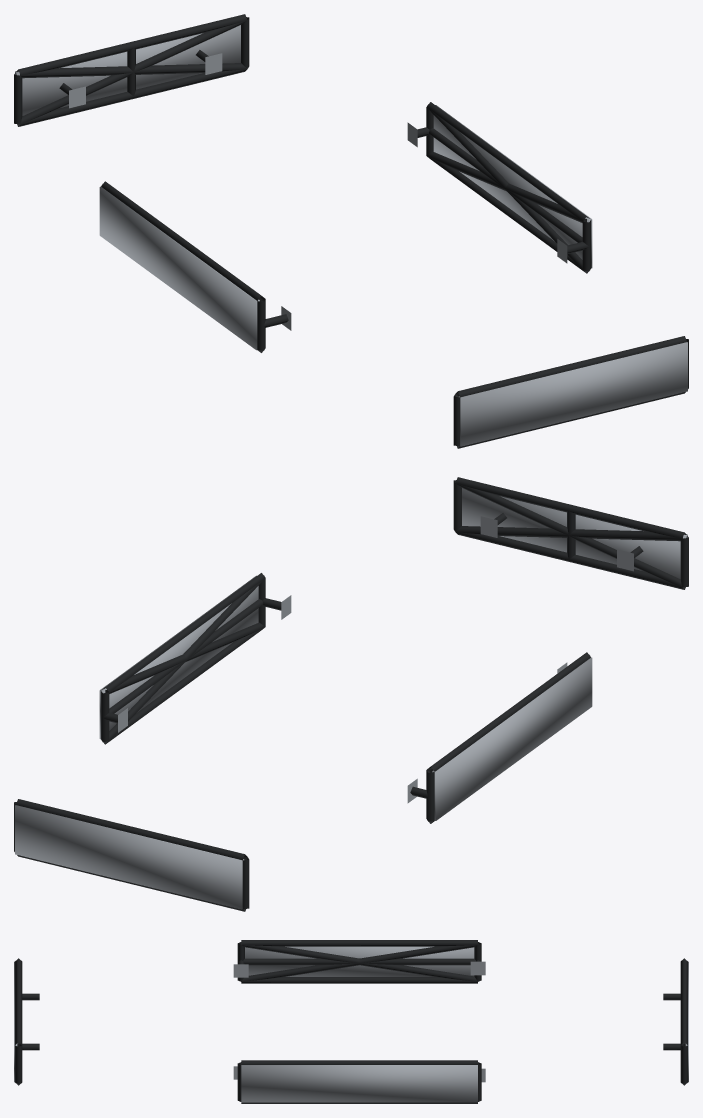
Rendered from keldorf_coral_protecao.glb.
The picture shows the model from 3 angles, top to bottom: view 1: azimuth 30°, elevation 25°; view 2: azimuth 150°, elevation 25°; view 3: azimuth 270°, elevation 25°; orthographic projection. The views are drawn at different scales.
Parts seen in each view (by area): view 1: Protection_front_Level3_Details, Protection_left_Level3_Details, Protection_rear_Level1_Details, Protection_rear_Level3_Details, Protection_right_Level1_Details, Protection_rear_Level2_Details, Protection_right_Level2_Details, Protection_right_Level3_Details, Protection_front_Level1_Details, Protection_left_Level1_Details; view 2: Protection_rear_Level3_Details, Protection_left_Level3_Details, Protection_front_Level1_Details, Protection_front_Level3_Details, Protection_right_Level1_Details, Protection_front_Level2_Details, Protection_right_Level2_Details, Protection_right_Level3_Details, Protection_rear_Level1_Details, Protection_left_Level1_Details; view 3: Protection_right_Level3_Details, Protection_left_Level2_Details, Protection_left_Level1_Details, Protection_left_Level3_Details, Protection_right_Level1_Details, Protection_rear_Level1_Details, Protection_front_Level1_Details.
Part boxes in pixels (left/top/right/bottom): Protection_front_Level3_Details: left=458, top=342, right=687, bottom=446; Protection_left_Level3_Details: left=99, top=186, right=259, bottom=350; Protection_rear_Level1_Details: left=14, top=14, right=249, bottom=126; Protection_rear_Level3_Details: left=15, top=25, right=240, bottom=115; Protection_right_Level1_Details: left=407, top=102, right=591, bottom=273; Protection_rear_Level2_Details: left=16, top=20, right=246, bottom=125; Protection_right_Level2_Details: left=427, top=108, right=589, bottom=273; Protection_right_Level3_Details: left=433, top=105, right=592, bottom=268; Protection_front_Level1_Details: left=453, top=336, right=688, bottom=448; Protection_left_Level1_Details: left=101, top=181, right=291, bottom=352; Protection_rear_Level3_Details: left=15, top=805, right=244, bottom=909; Protection_left_Level3_Details: left=432, top=657, right=592, bottom=820; Protection_front_Level1_Details: left=453, top=477, right=688, bottom=589; Protection_front_Level3_Details: left=462, top=488, right=687, bottom=578; Protection_right_Level1_Details: left=101, top=573, right=291, bottom=744; Protection_front_Level2_Details: left=456, top=483, right=686, bottom=588; Protection_right_Level2_Details: left=102, top=579, right=265, bottom=744; Protection_right_Level3_Details: left=99, top=575, right=258, bottom=739; Protection_rear_Level1_Details: left=14, top=799, right=249, bottom=911; Protection_left_Level1_Details: left=407, top=652, right=590, bottom=823; Protection_right_Level3_Details: left=241, top=1065, right=477, bottom=1102; Protection_left_Level2_Details: left=241, top=942, right=478, bottom=981; Protection_left_Level1_Details: left=233, top=940, right=485, bottom=983; Protection_left_Level3_Details: left=245, top=946, right=474, bottom=976; Protection_right_Level1_Details: left=233, top=1060, right=485, bottom=1103; Protection_rear_Level1_Details: left=663, top=958, right=687, bottom=1085; Protection_front_Level1_Details: left=15, top=958, right=39, bottom=1085.
Size of the model in its own units: 2.16 by 0.354 by 4.96.
1 material, 1 textured.
